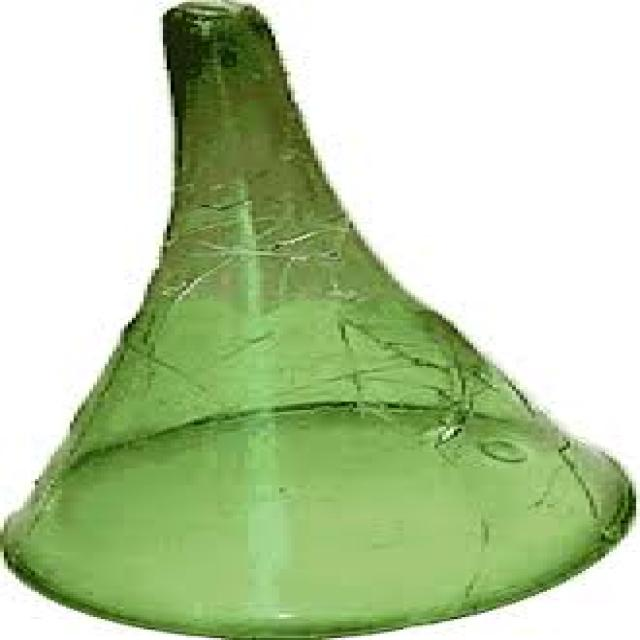glass: (0, 0, 636, 638)
